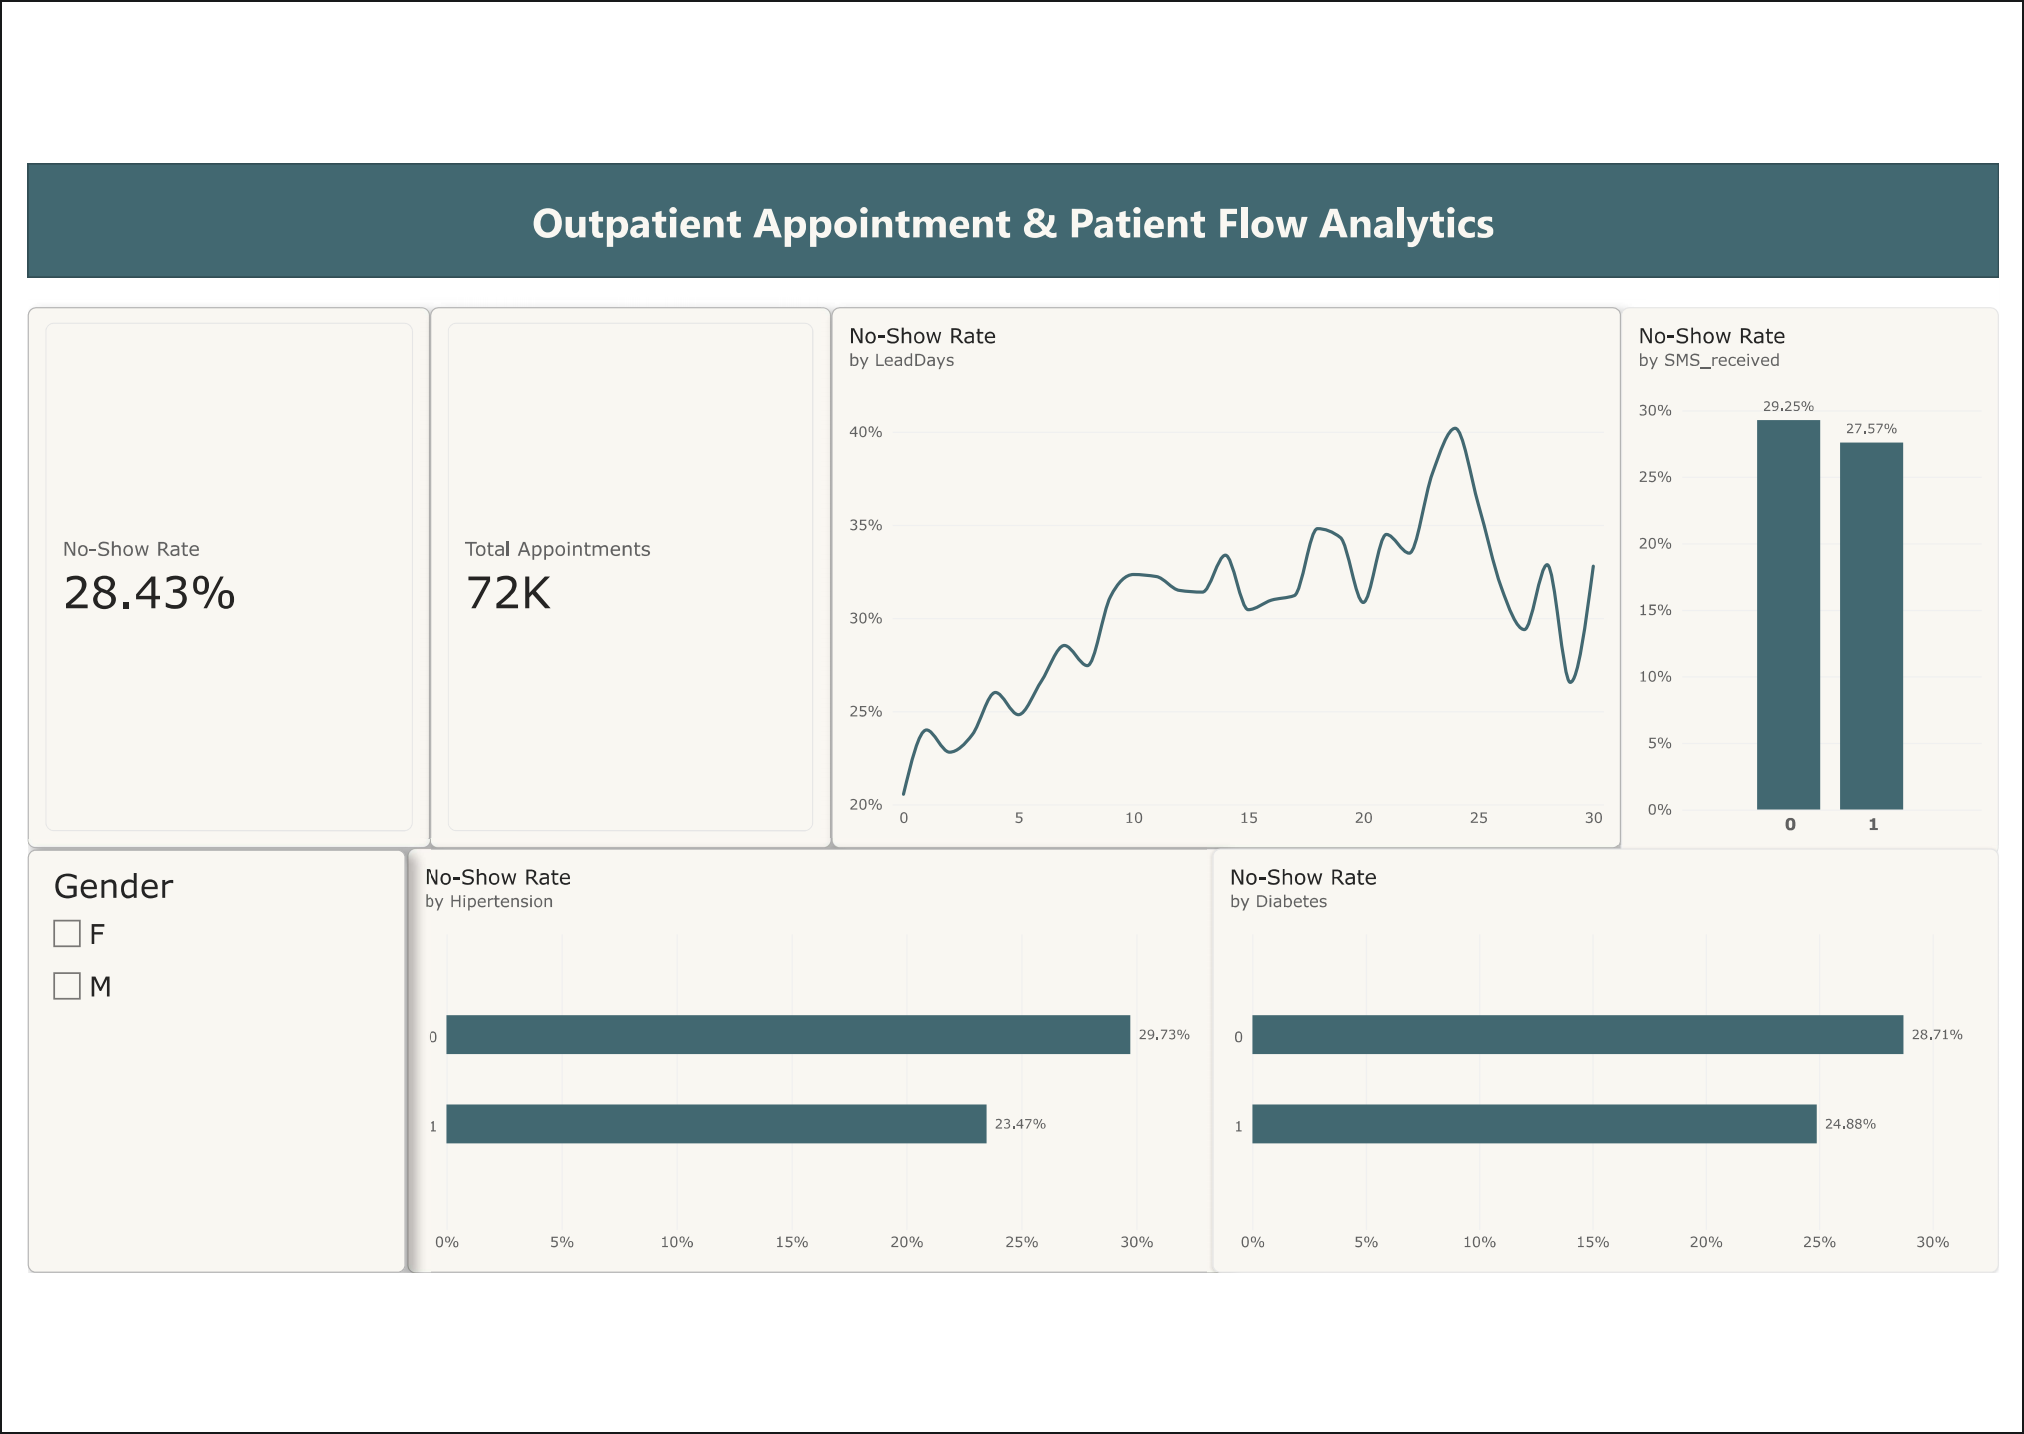

This screenshot's page, from the dashboard's own definition file:
{"tool":"powerbi","page":{"name":"Page 1","canvas":[1920,1080],"ordinal":0},"visuals":[{"type":"cardVisual","fields":{"Data":["_Measures.No-Show Rate"]},"box":[0,139.7,392.4,527.7],"z":0},{"type":"cardVisual","fields":{"Data":["_Measures.Total Appointments"]},"box":[392.4,139.7,390.2,527.7],"z":1000},{"type":"lineChart","fields":{"Category":["Fact_Appointments.LeadDays"],"Y":["_Measures.No-Show Rate"]},"box":[782.6,139.7,769.3,527.7],"z":2000},{"type":"clusteredColumnChart","fields":{"Category":["Fact_Appointments.SMS_received"],"Y":["_Measures.No-Show Rate"]},"box":[1552,139.7,368,534.3],"z":3000},{"type":"barChart","fields":{"Category":["Fact_Appointments.Hipertension"],"Y":["_Measures.No-Show Rate"]},"box":[368.5,666.7,798.1,413],"z":4000},{"type":"barChart","fields":{"Category":["Fact_Appointments.Diabetes"],"Y":["_Measures.No-Show Rate"]},"box":[1153.7,666.7,766.7,413],"z":5000},{"type":"slicer","fields":{"Values":["Fact_Appointments.Gender"]},"box":[0,668,368,412.4],"z":6000},{"type":"shape","box":[0,0,1920,110.9],"z":7000}]}

Visuals, with their boxes on the page's 1920x1080 design canvas (x1, y1, x2, y2). These are canvas units, not pixel positions in the 2024x1434 screenshot, which may show the page scaled, cropped or inside an application window:
cardVisual - _Measures.No-Show Rate: 0, 140, 392, 667
cardVisual - _Measures.Total Appointments: 392, 140, 783, 667
lineChart - Fact_Appointments.LeadDays x _Measures.No-Show Rate: 783, 140, 1552, 667
clusteredColumnChart - Fact_Appointments.SMS_received x _Measures.No-Show Rate: 1552, 140, 1920, 674
barChart - Fact_Appointments.Hipertension x _Measures.No-Show Rate: 368, 667, 1167, 1080
barChart - Fact_Appointments.Diabetes x _Measures.No-Show Rate: 1154, 667, 1920, 1080
slicer - Fact_Appointments.Gender: 0, 668, 368, 1080
shape: 0, 0, 1920, 111
